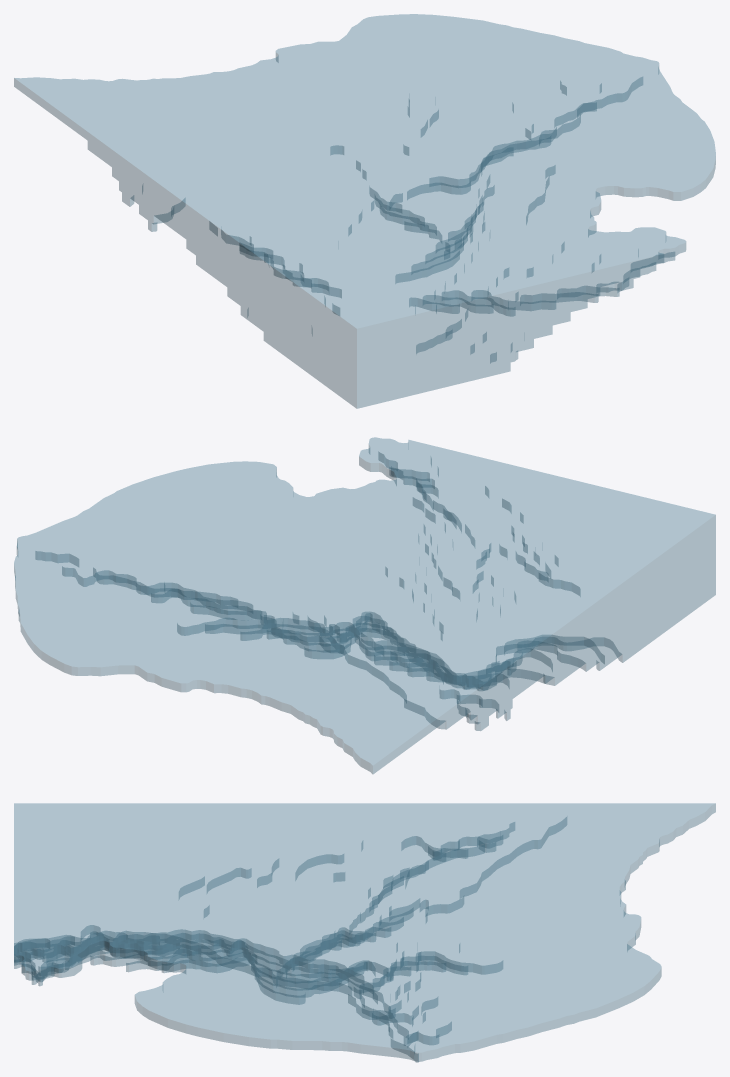
3 views of the same model, one above another, from view 1: azimuth 30°, elevation 25°; view 2: azimuth 150°, elevation 25°; view 3: azimuth 270°, elevation 25° (orthographic). The views are drawn at different scales.
Visible parts, largest first — view 1: water; view 2: water; view 3: water.
Part boxes in pixels (x1,y1,x2,y2): water: (14,14,715,408); water: (14,437,715,773); water: (14,803,715,1062).
Size of the model in its own units: 82.83 by 12.7 by 98.45.
Materials: 1 (1 with a texture image).
